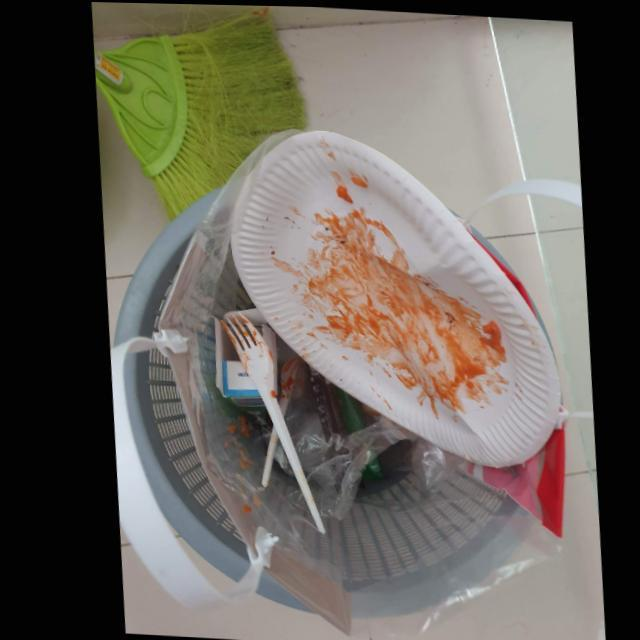paper: (224, 126, 556, 465), (207, 313, 265, 428)
wrapper: (331, 385, 374, 479)
